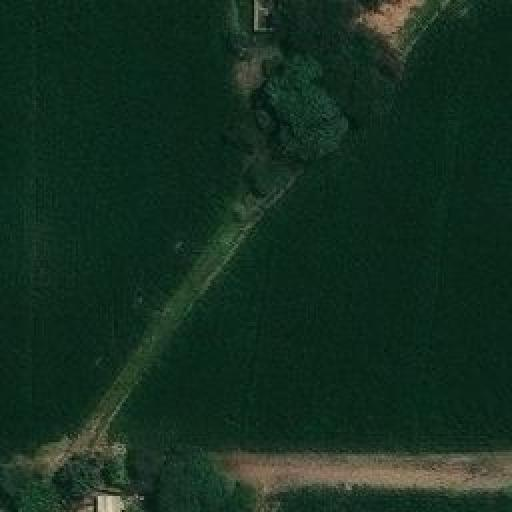manzanas: (79, 487, 147, 510)
